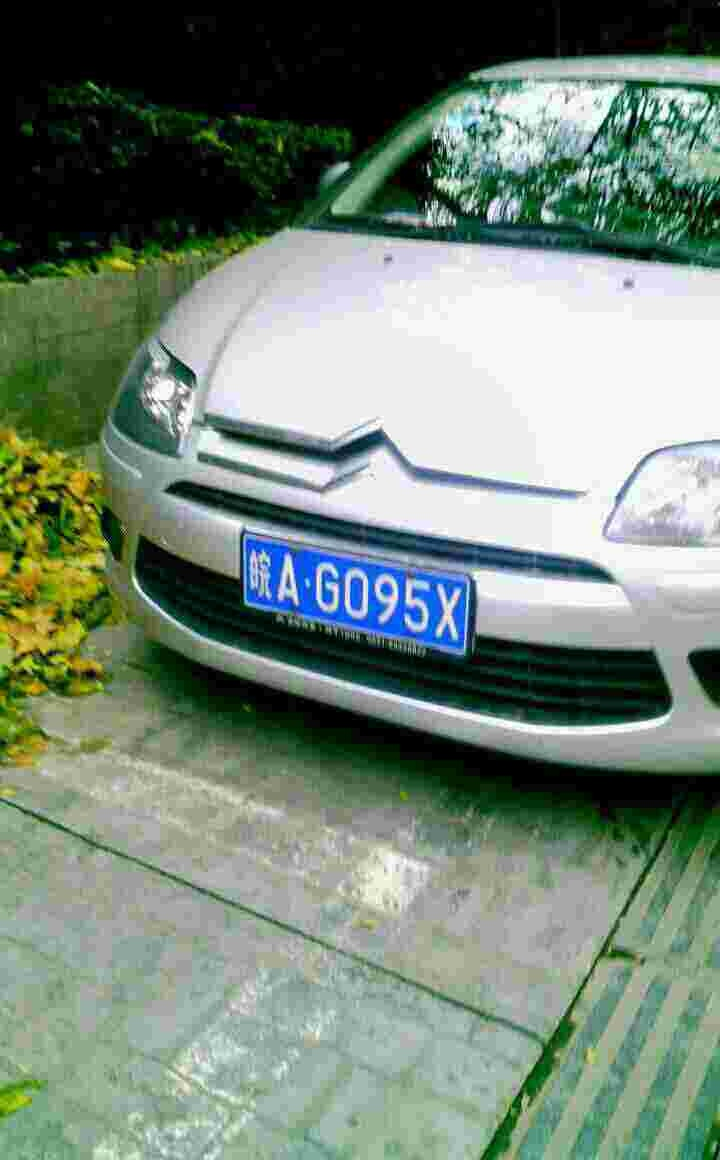license_plate: (241, 538, 476, 654)
